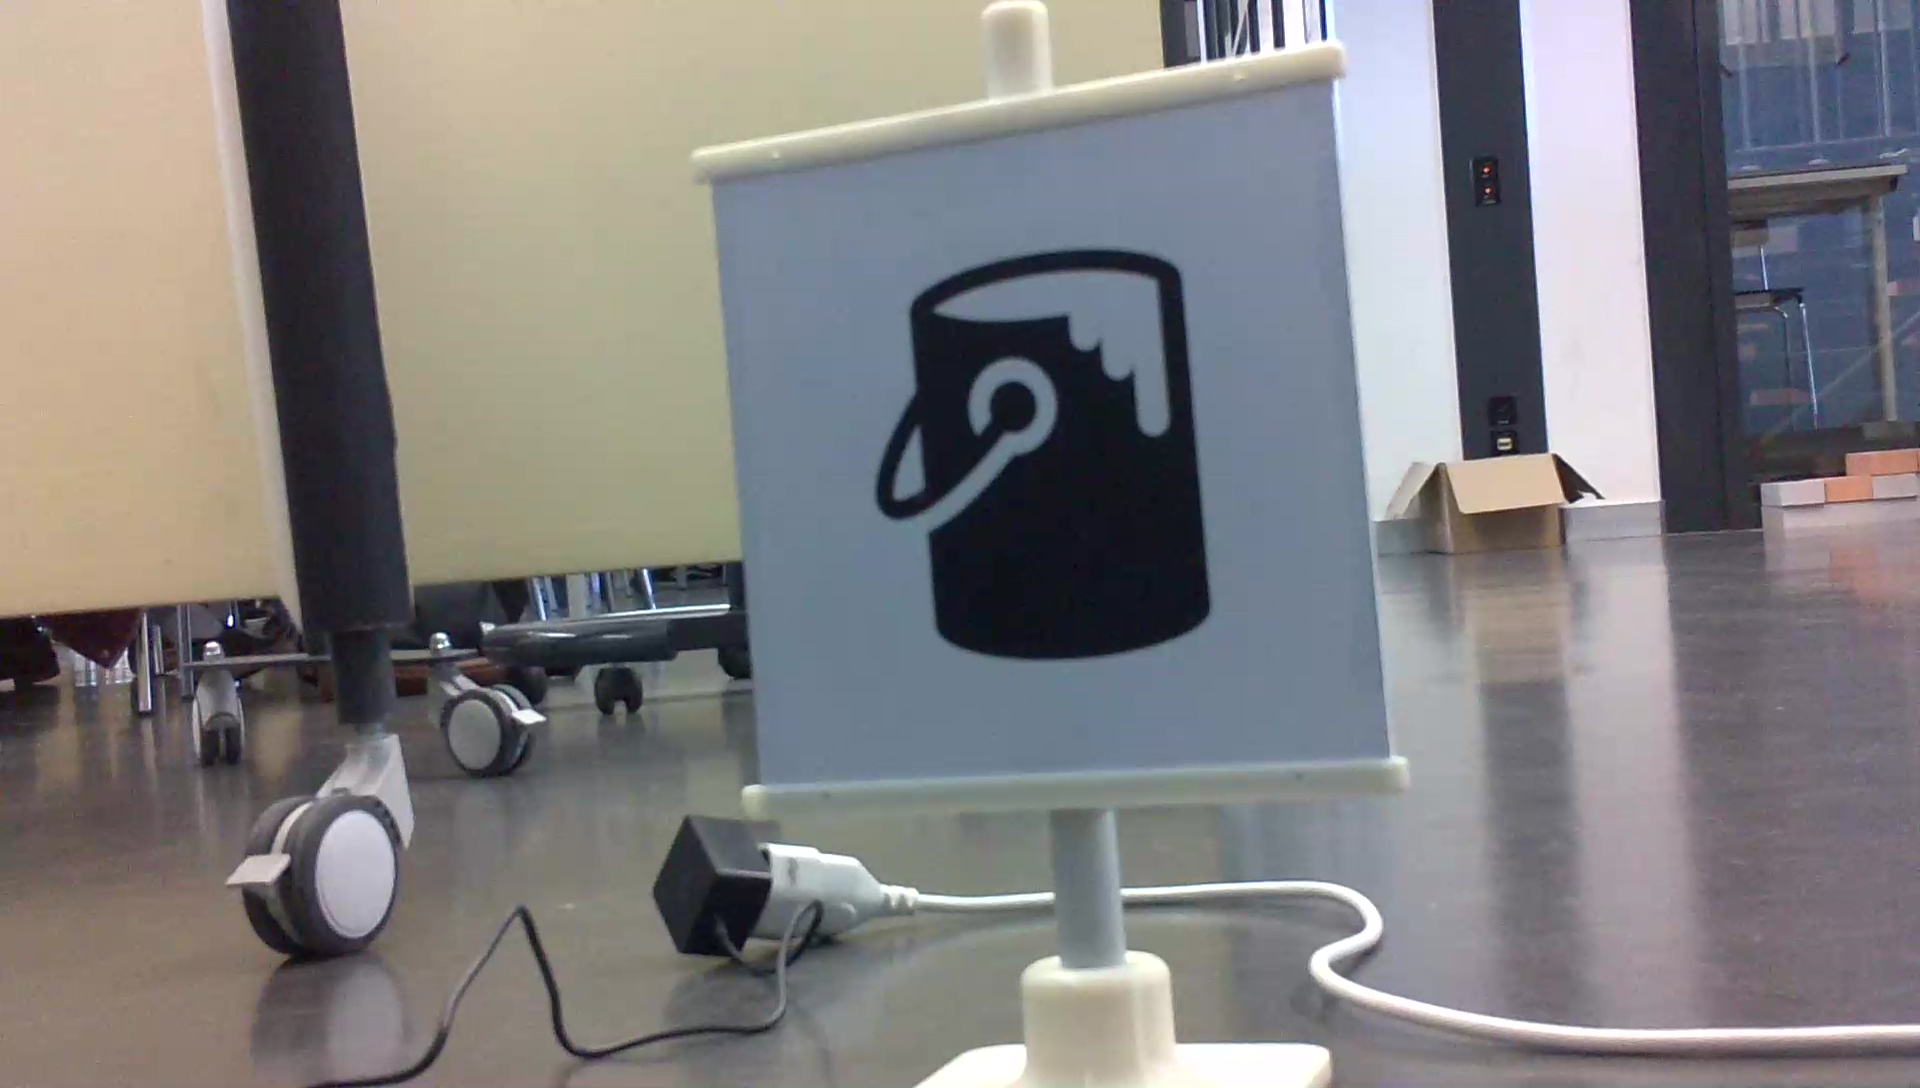bucket: (857, 237, 1226, 677)
